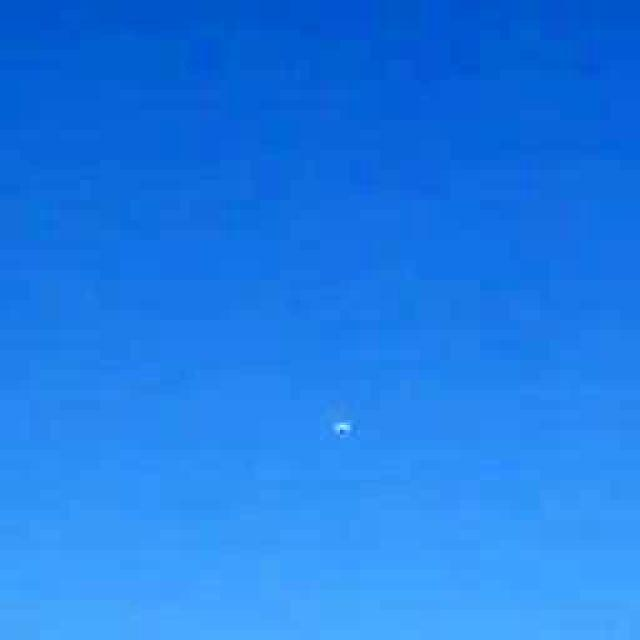bird: (312, 400, 378, 462)
